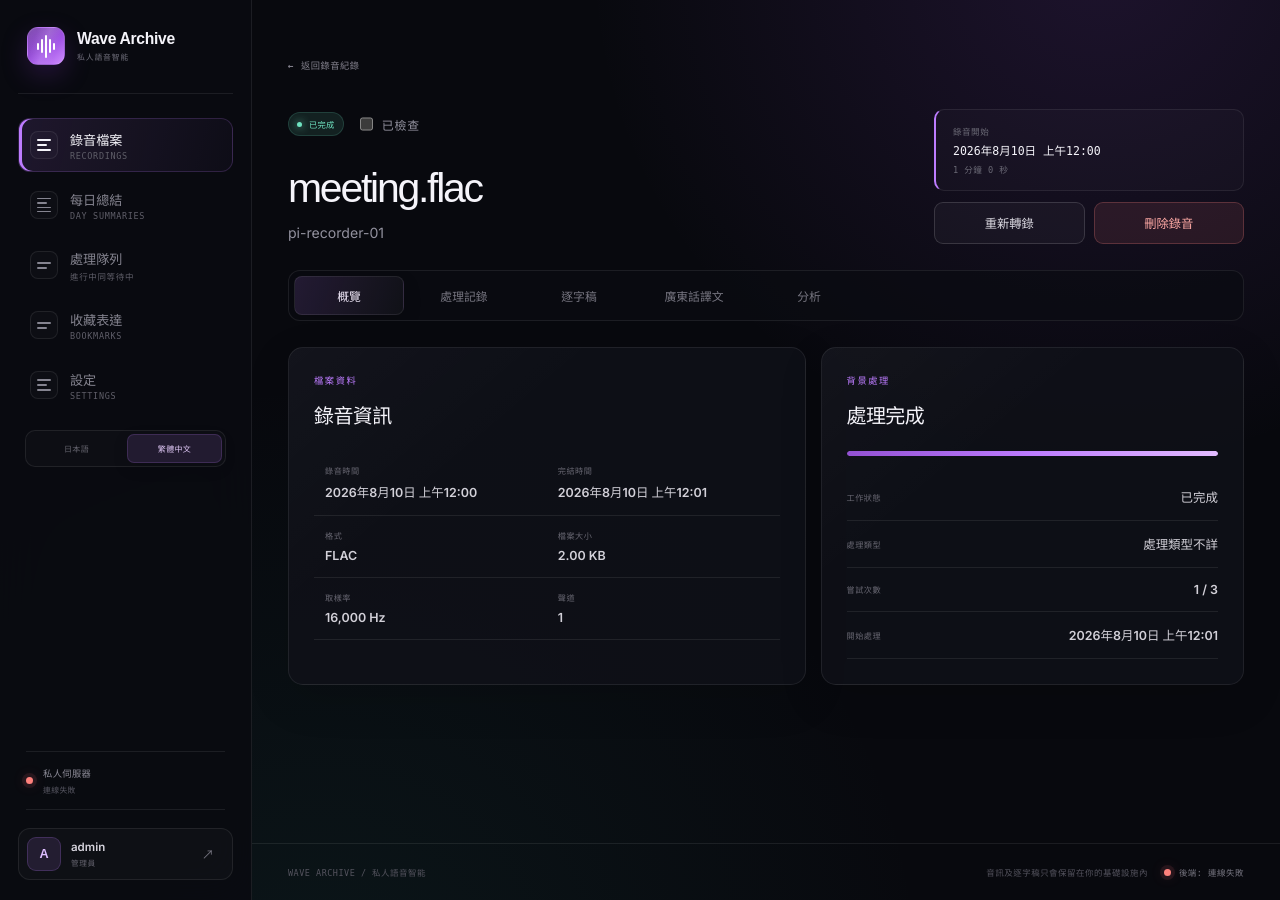
Scenario: recording transcript states › shows a clear pending state for a 409 transcript response
Expected: the heading "meeting.flac" is shown, [288, 168, 482, 208]
Click the tab "逐字稿" at (579, 296), box [524, 276, 634, 316]
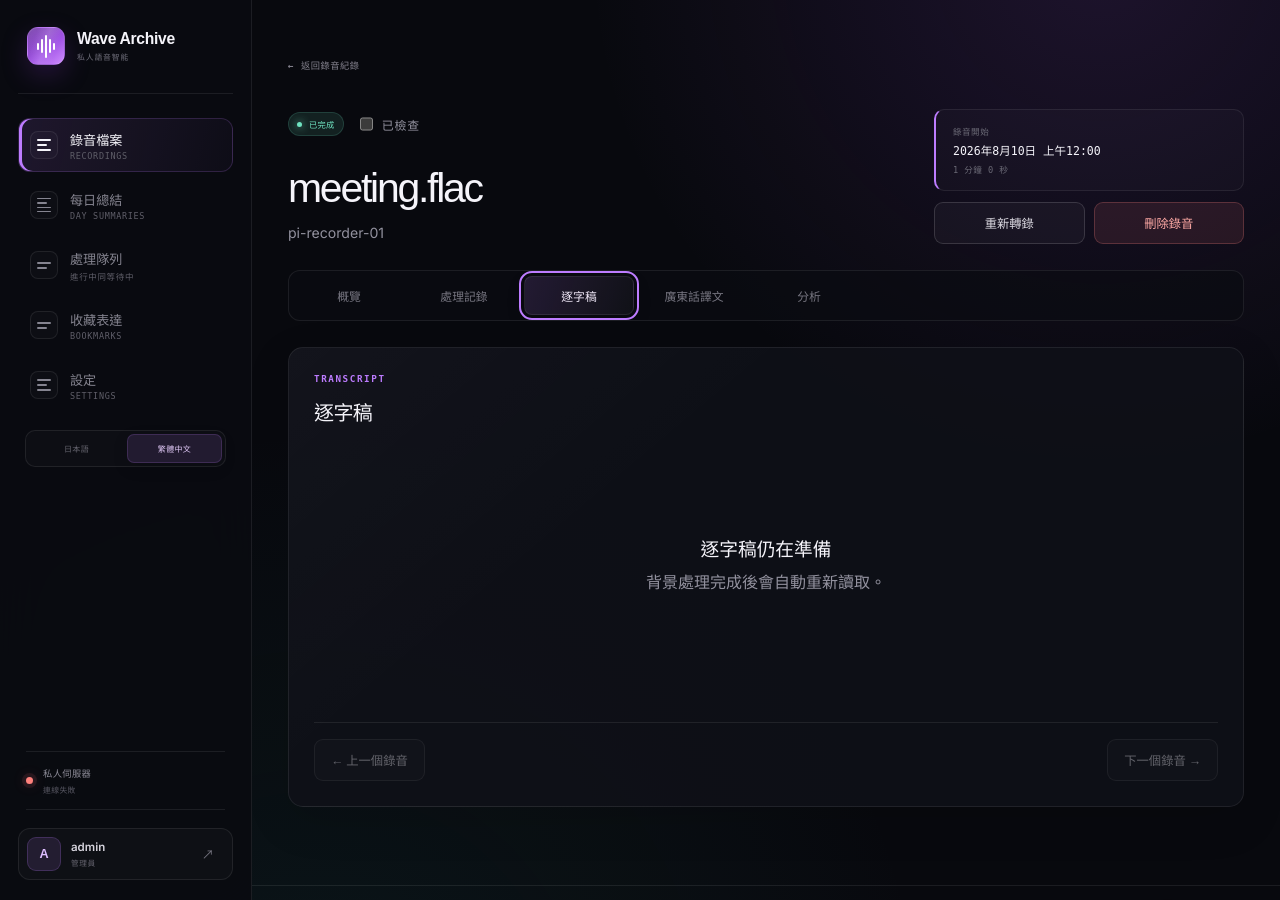
Result: the heading "逐字稿仍在準備" is shown at [700, 534, 831, 561]
